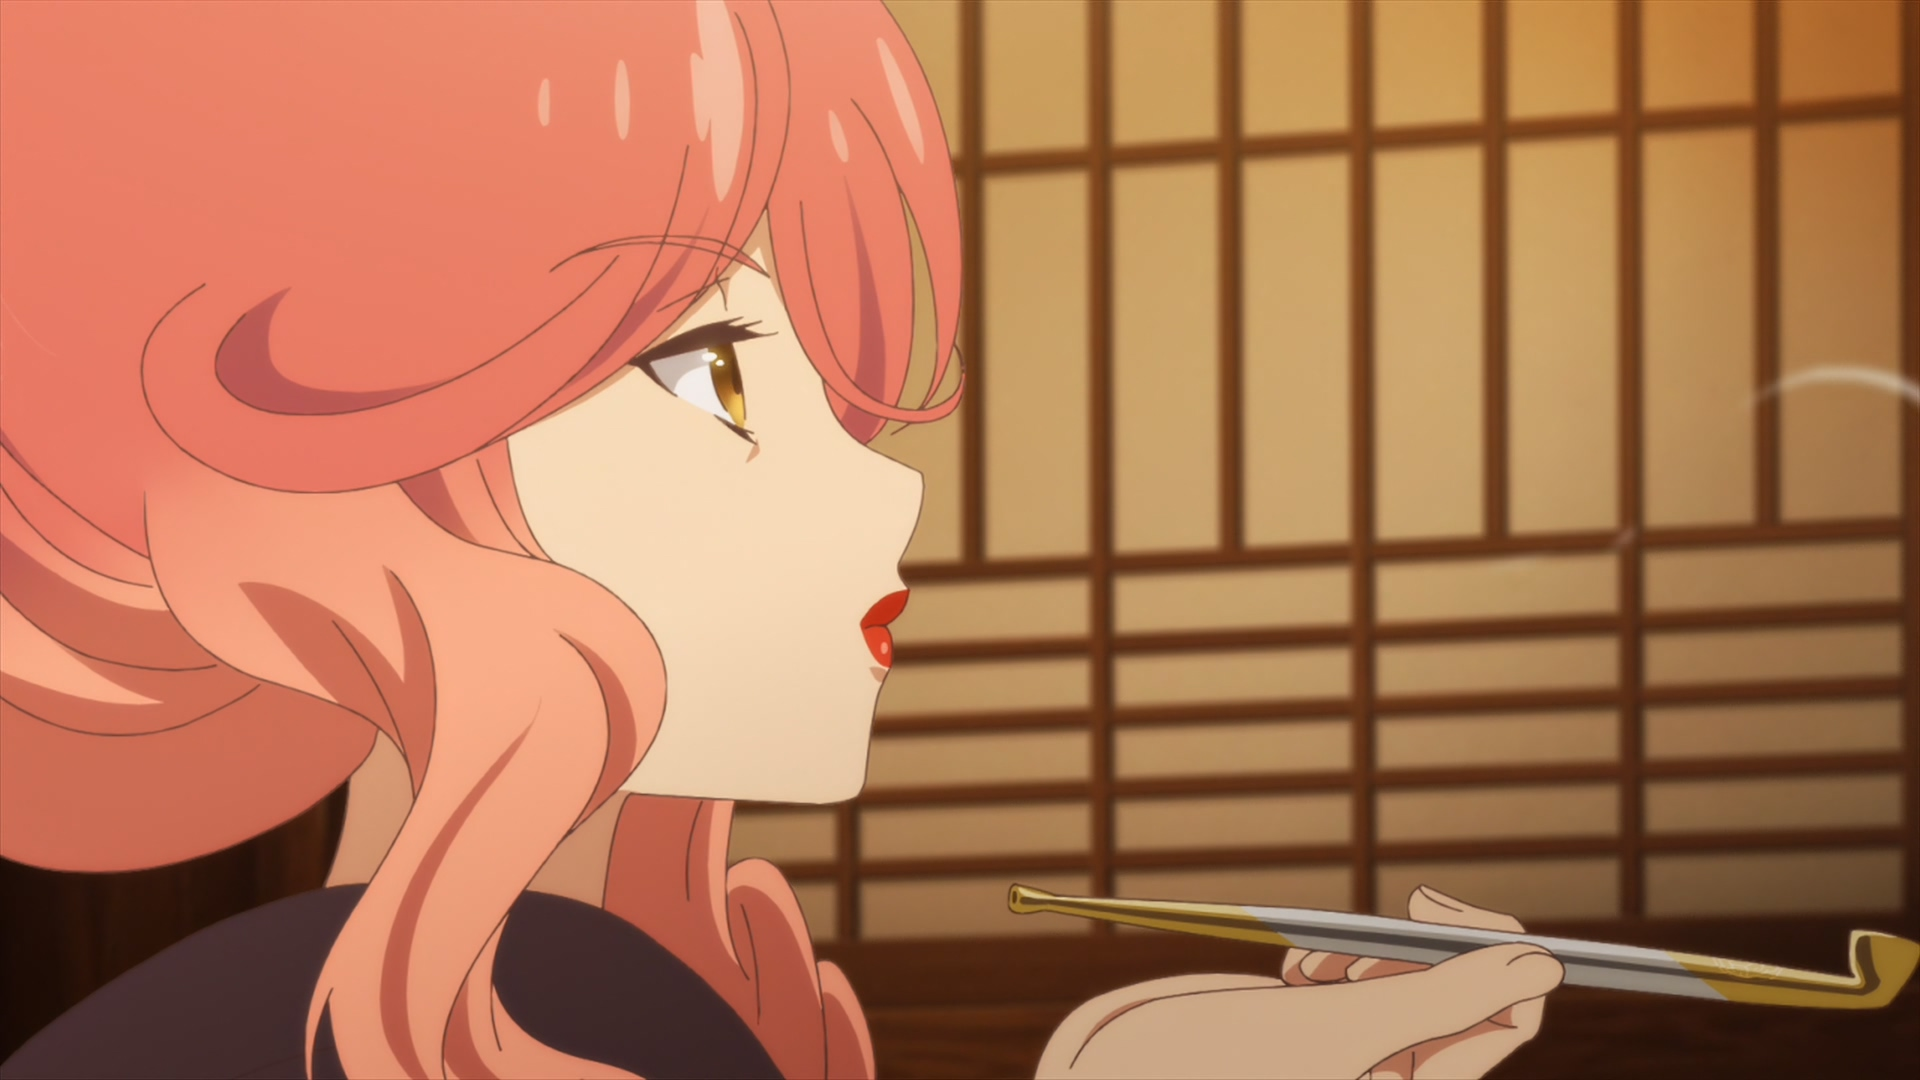椿: (1, 1, 964, 1080)
